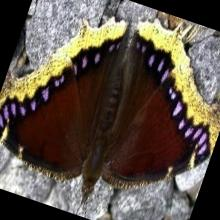butterfly: (0, 21, 220, 197)
